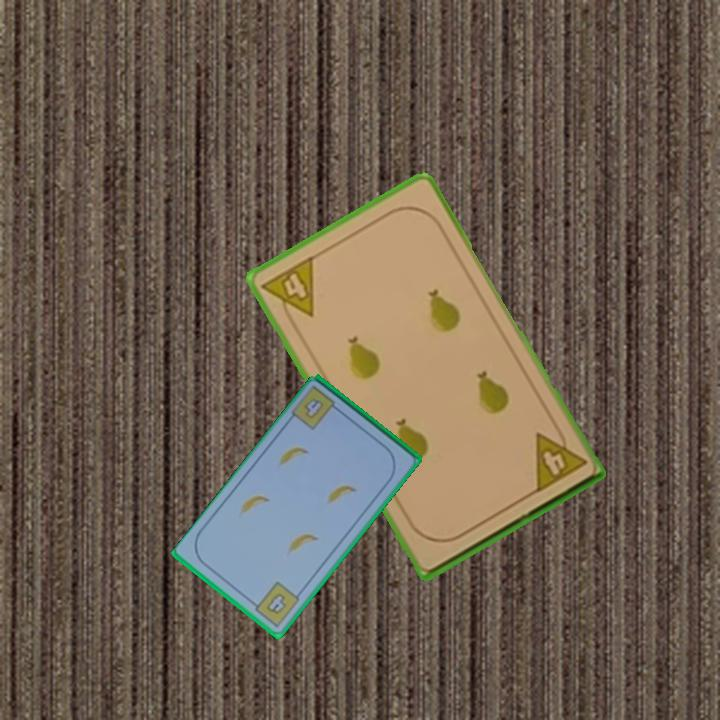4b: (247, 578, 303, 630), (300, 395, 327, 422)
4p: (257, 252, 317, 330), (530, 420, 590, 496)
